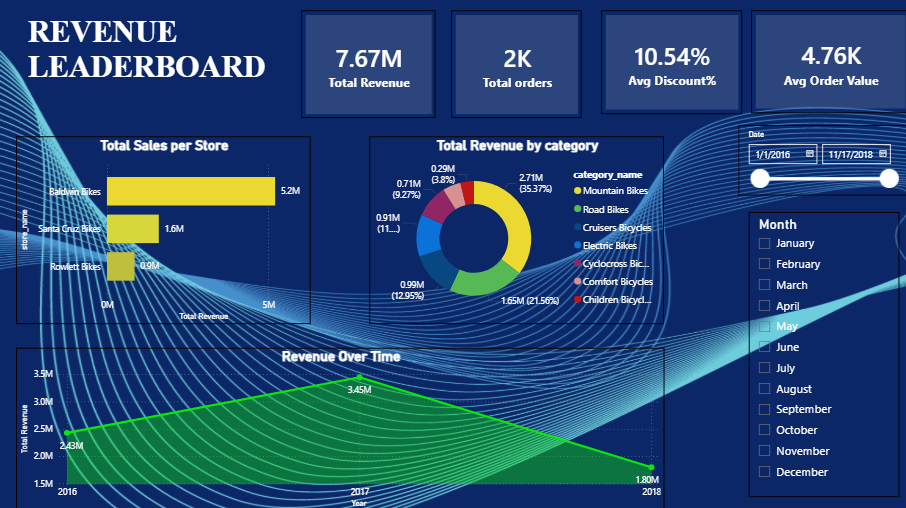

What the dashboard file says about the page in this screenshot:
{"tool":"powerbi","page":{"name":"Revenue Leaderboard","canvas":[1280,720],"ordinal":0},"visuals":[{"type":"cardVisual","fields":{"Data":["Key Measure.Total Revenue"]},"box":[414.9,20.2,188.1,151.2],"z":0},{"type":"cardVisual","fields":{"Data":["Key Measure.Total orders"]},"box":[624.9,20.2,183.1,151.2],"z":1000},{"type":"cardVisual","fields":{"Data":["Key Measure.Avg Order Value"]},"box":[1044.1,20.2,222.6,143.4],"z":2000},{"type":"cardVisual","fields":{"Data":["Key Measure.Avg Discount%"]},"box":[835,20.2,197.2,144.9],"z":3000},{"type":"barChart","title":"Total Sales per Store","fields":{"Category":["stores.store_name"],"Y":["Key Measure.Total Revenue"]},"box":[16.4,195.7,412.3,262.9],"z":4000},{"type":"slicer","fields":{"Values":["calendar.Date"]},"box":[1026.2,180.7,240.5,98.6],"z":5000},{"type":"donutChart","title":"Total Revenue by category","fields":{"Y":["Key Measure.Total Revenue"],"Category":["categories.category_name"]},"box":[510.9,195.7,412.3,262.9],"z":6000},{"type":"lineChart","title":"Revenue Over Time","fields":{"Category":["calendar.Date.Variation.Date Hierarchy.Year"],"Y":["Key Measure.Total Revenue"]},"box":[16.4,491.5,906.7,228.5],"z":7000},{"type":"slicer","fields":{"Values":["calendar.Date.Variation.Date Hierarchy.Month"]},"box":[1041.2,301.7,210.6,398.8],"z":8000},{"type":"textbox","box":[28.4,19.4,386.9,150.9],"z":9000}]}

Visuals, with their boxes in screenshot pixels (x1, y1, x2, y2), scaled from the page's 1280x720 canvas onto the 906x508 screenshot:
cardVisual - Key Measure.Total Revenue: (x1=294, y1=14, x2=427, y2=121)
cardVisual - Key Measure.Total orders: (x1=442, y1=14, x2=572, y2=121)
cardVisual - Key Measure.Avg Order Value: (x1=739, y1=14, x2=897, y2=115)
cardVisual - Key Measure.Avg Discount%: (x1=591, y1=14, x2=731, y2=116)
"Total Sales per Store" barChart: (x1=12, y1=138, x2=303, y2=324)
slicer - calendar.Date: (x1=726, y1=127, x2=897, y2=197)
"Total Revenue by category" donutChart: (x1=362, y1=138, x2=653, y2=324)
"Revenue Over Time" lineChart: (x1=12, y1=347, x2=653, y2=507)
slicer - calendar.Date.Variation.Date Hierarchy.Month: (x1=737, y1=213, x2=886, y2=494)
textbox: (x1=20, y1=14, x2=294, y2=120)
